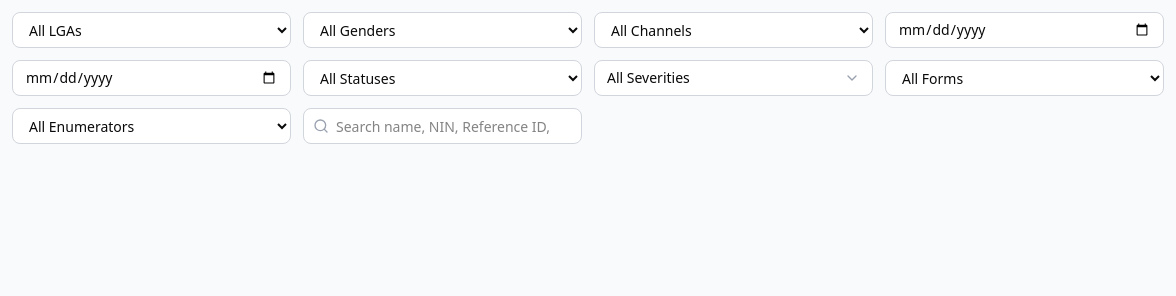
Test: RegistryFilters › severity filter renders as multi-select with checkbox options
This screenshot has width=1176, height=296.
Click to open severity dropdown
Click the button "All Severities" at (648, 78), box x1=594 y1=60 x2=873 y2=96
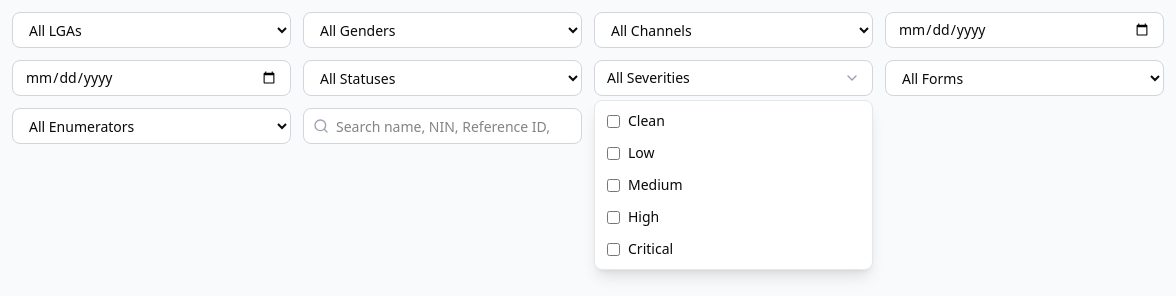
Now the checkbox with test id "severity-clean" is shown, box x1=607 y1=114 x2=620 y2=128
Now the checkbox with test id "severity-low" is shown, box x1=607 y1=146 x2=620 y2=160
Now the checkbox with test id "severity-medium" is shown, box x1=607 y1=178 x2=620 y2=192
